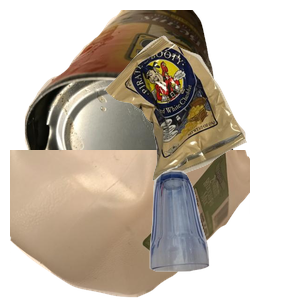glass: (147, 168, 300, 300)
metal: (22, 10, 251, 190)
plastic: (10, 150, 250, 300)
trash: (101, 33, 300, 206)
